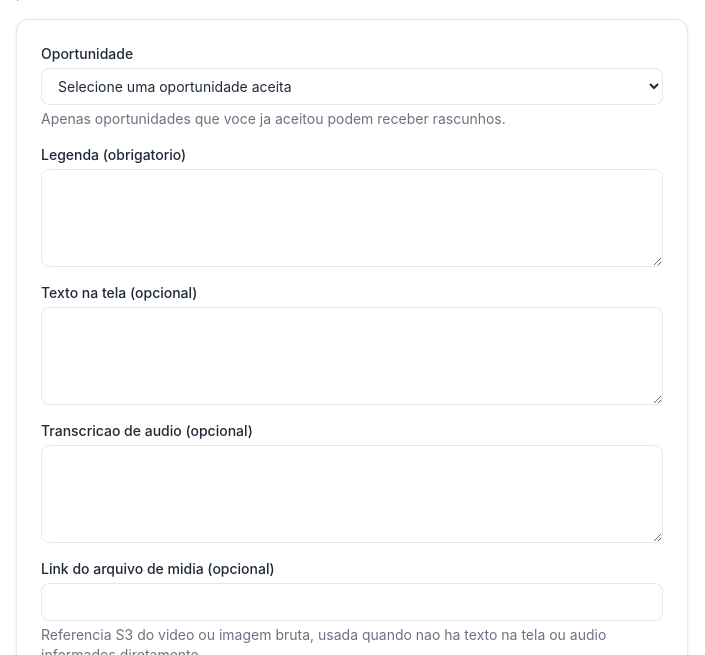
Test: NewDraftPage - US-32a, US-32b › shows a specific message when a resubmission is attempted while the latest version is still pending
This screenshot has width=705, height=655.
Select "Acme Cosmeticos · instagram_reel" in the dropdown labelled "Oportunidade": (352, 86) [41,68,663,105]
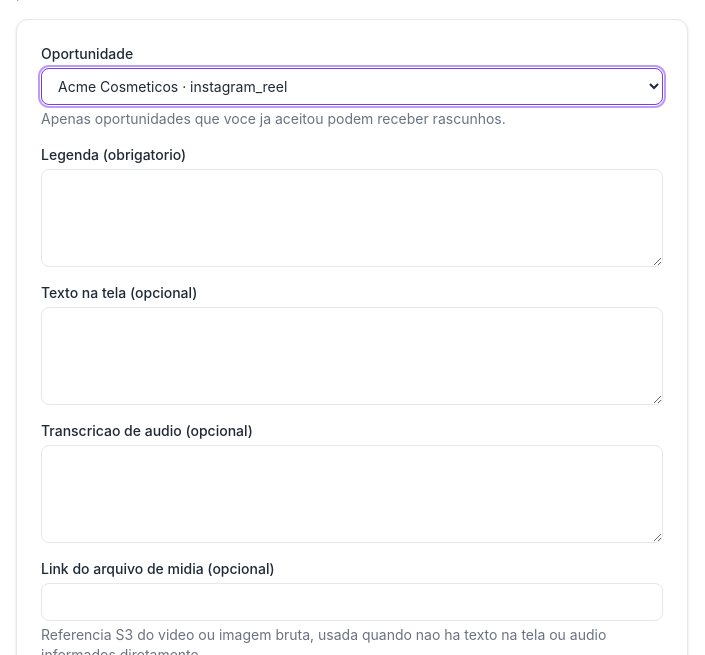
In the text box labelled "Legenda (obrigatorio)": (352, 218) [41,169,663,267], type "Esse serum mudou minha pele em 14 dias!"
(page scrolled)
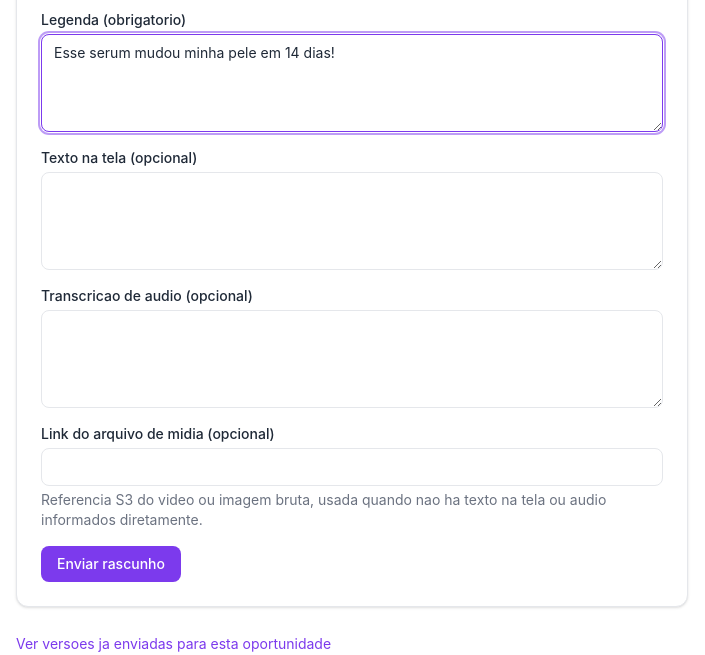
Click the button "Enviar rascunho": click(111, 564) [41,546,181,582]
(page scrolled)
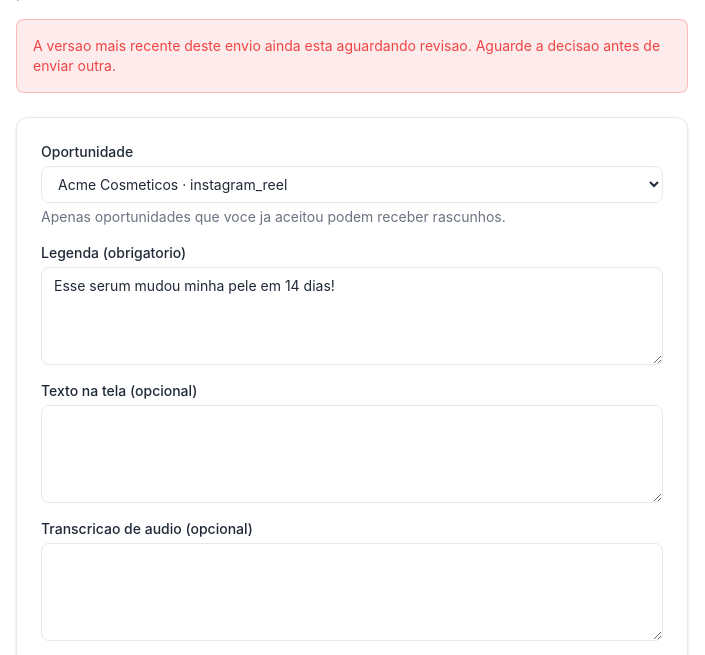
Expected: the text "A versao mais recente deste envio ainda esta aguardando revisao. Aguarde a decisao antes de enviar outra." is shown, [33,37,660,74]
